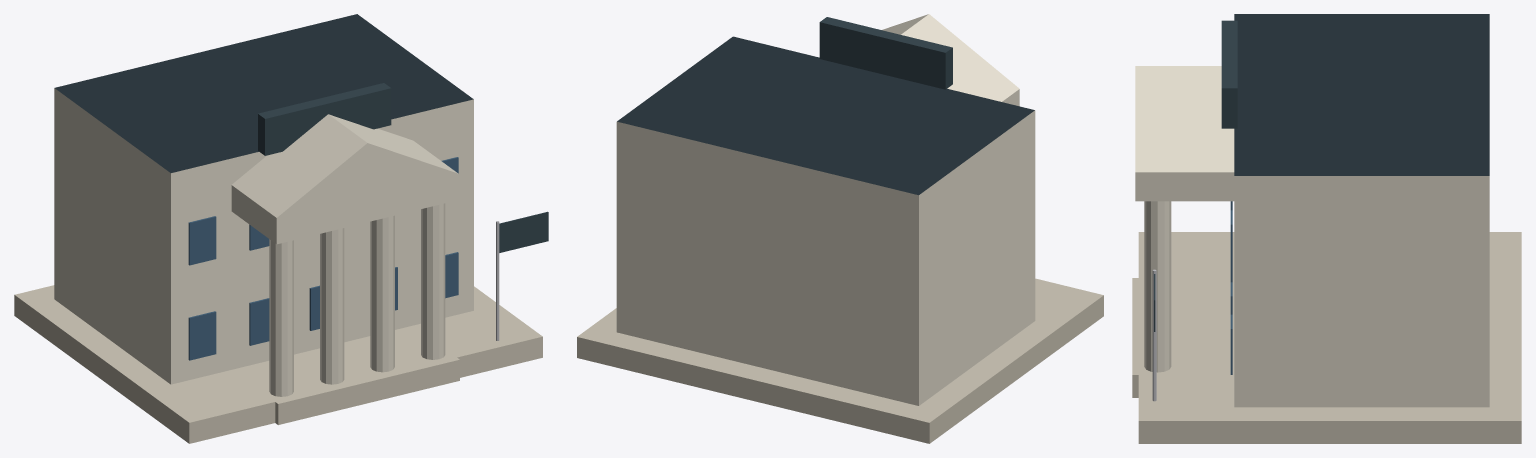
File: gov_min_science.glb
The picture shows the model from 3 angles, left to right: view 1: azimuth 30°, elevation 25°; view 2: azimuth 150°, elevation 25°; view 3: azimuth 270°, elevation 25°; orthographic projection. The views are drawn at different scales.
Visible parts, largest first — view 1: box; view 2: box; view 3: box.
Boxes of the visible parts, bbox=[...] form: box: bbox=[14, 14, 548, 443]; box: bbox=[577, 14, 1103, 443]; box: bbox=[1132, 14, 1521, 443].
Bounding box in the file's own units: 14.5 × 10.2 × 12.2.
